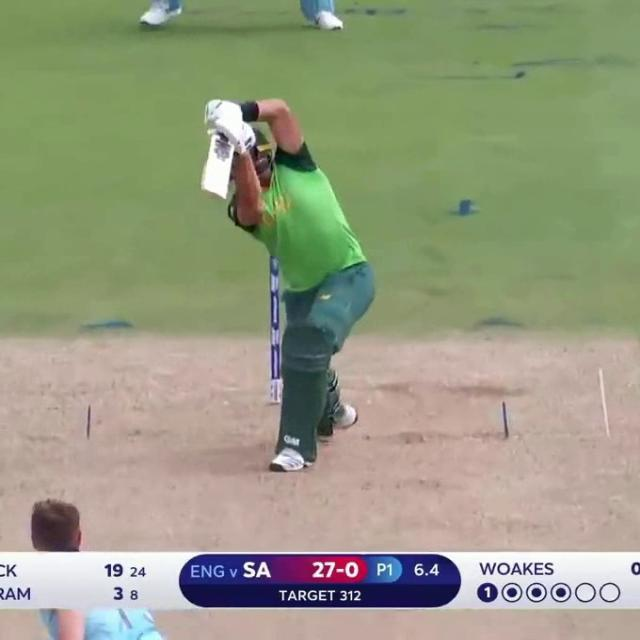bat: (202, 131, 232, 200)
toe: (201, 190, 232, 200)
